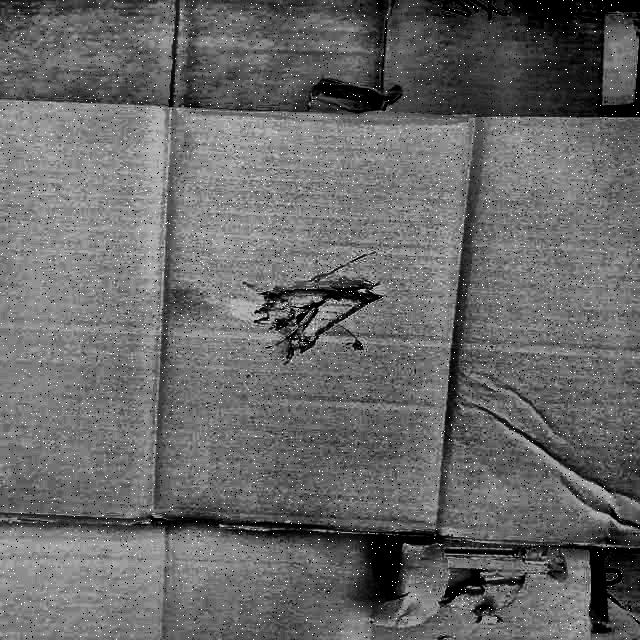box: (0, 0, 640, 542)
hole: (241, 275, 381, 369)
